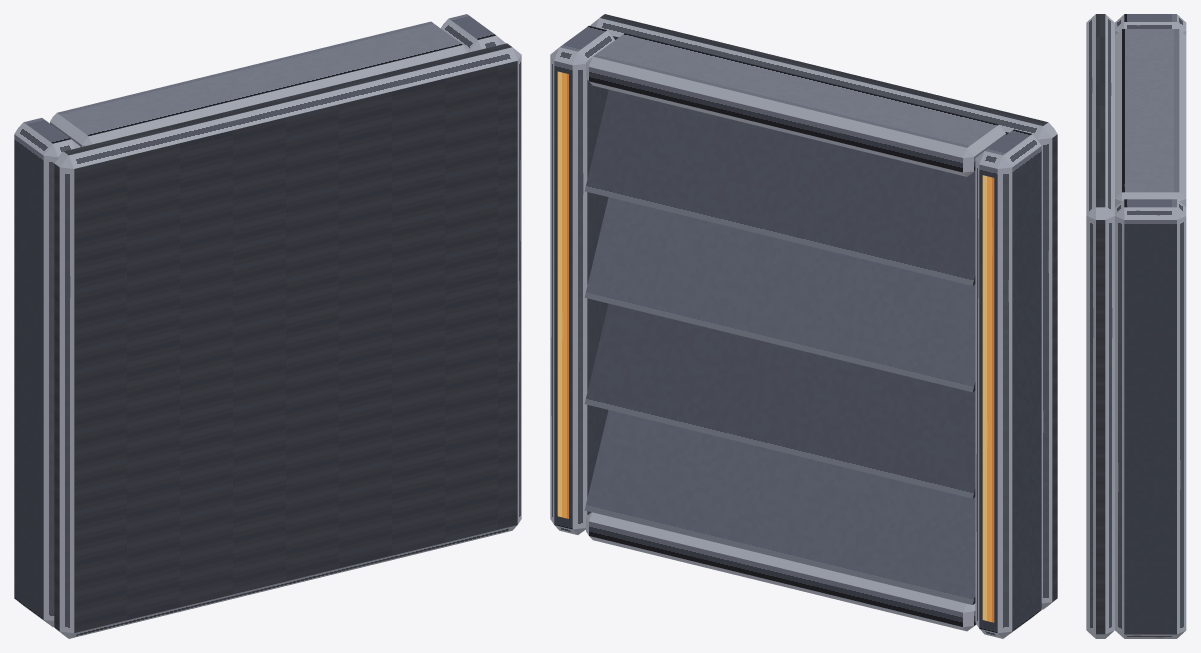
The model's file is marlit_armor4.glb.
The picture shows the model from 3 angles, left to right: view 1: azimuth 30°, elevation 25°; view 2: azimuth 150°, elevation 25°; view 3: azimuth 270°, elevation 25°; orthographic projection. The views are drawn at different scales.
Visible parts, largest first — view 1: marlit_armor4_body; view 2: marlit_armor4_body; view 3: marlit_armor4_body.
Part boxes in pixels (box(x1,y1,x2,y2)): marlit_armor4_body: box(14, 14, 521, 638); marlit_armor4_body: box(550, 14, 1057, 638); marlit_armor4_body: box(1086, 14, 1186, 638).
Size of the model in its own units: 2 by 2 by 0.421.
1 material, 1 textured.
